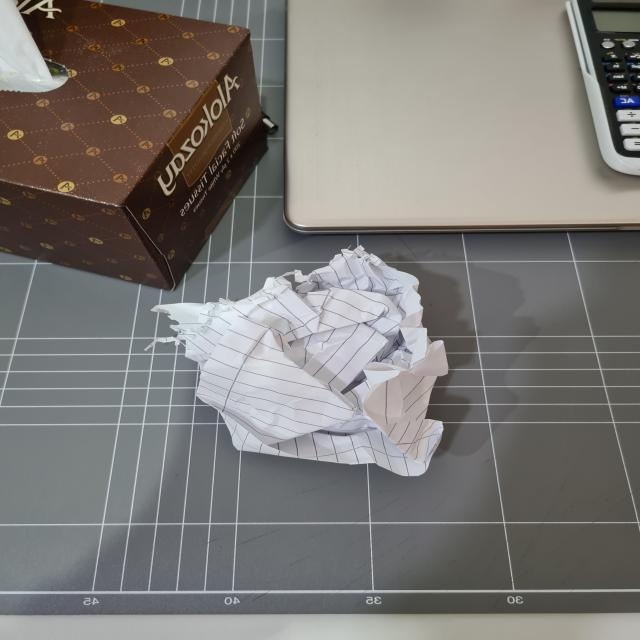paper: (123, 251, 447, 477)
